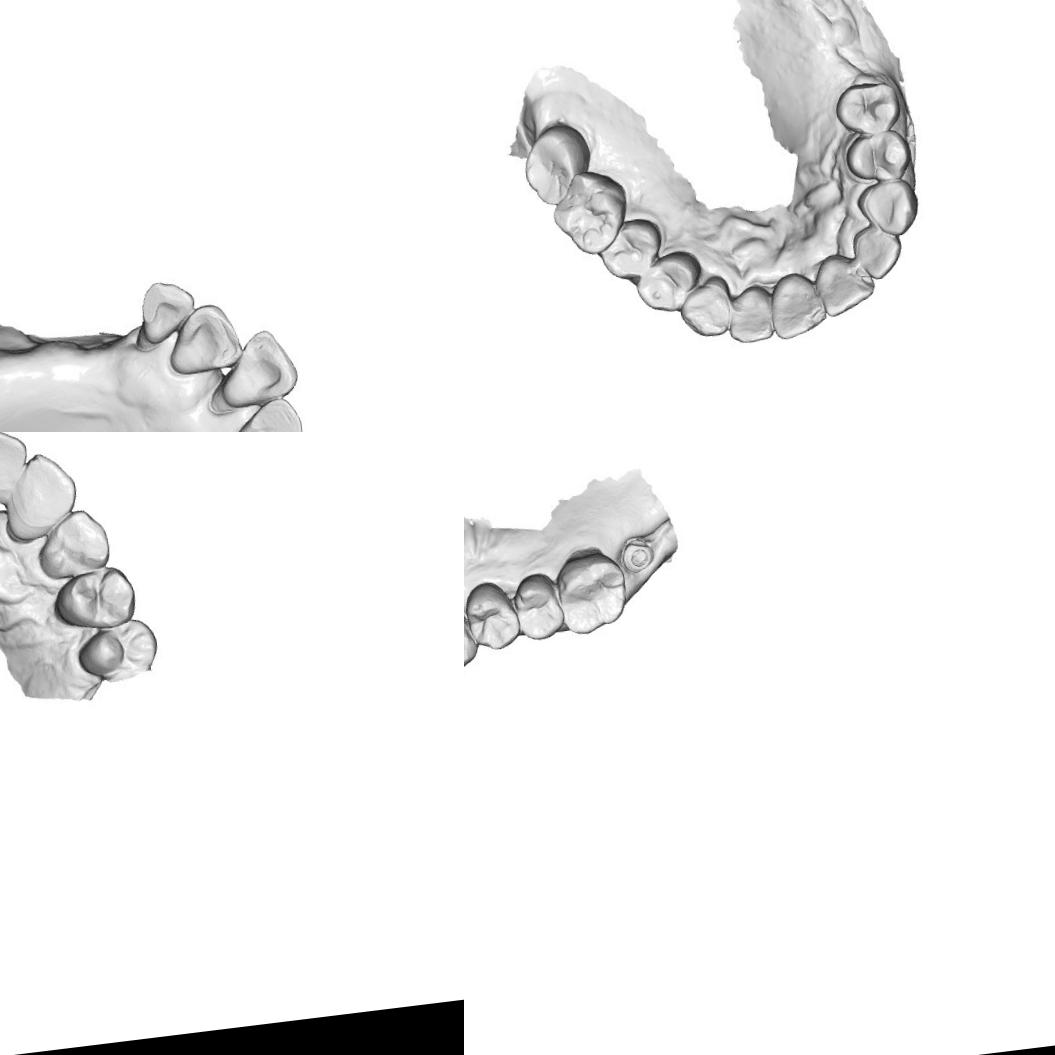canine: (31, 503, 115, 583), (854, 176, 924, 240), (674, 275, 734, 341), (464, 606, 480, 678)
implant: (617, 535, 658, 575)
incisor: (212, 324, 303, 413), (0, 450, 83, 539), (162, 299, 248, 378), (766, 266, 830, 342), (135, 276, 200, 346), (814, 251, 879, 320), (723, 283, 776, 345), (850, 224, 904, 282), (229, 394, 306, 432), (0, 432, 33, 511)
molar: (550, 543, 632, 639), (547, 168, 632, 259), (519, 120, 596, 209)
premolar: (630, 247, 707, 316), (61, 564, 139, 630), (80, 620, 159, 682), (595, 217, 665, 283), (464, 577, 523, 655), (832, 76, 903, 140), (510, 568, 568, 645), (842, 126, 915, 186)
